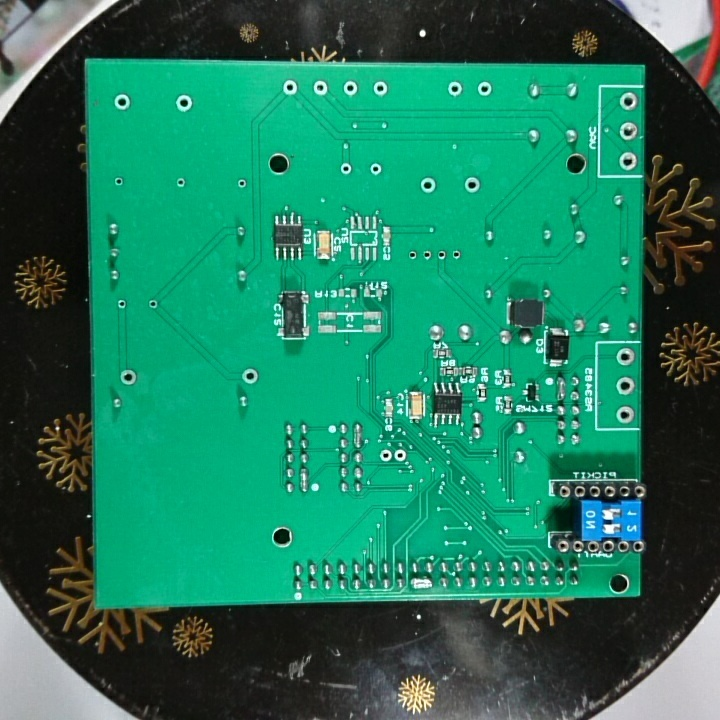F: (172, 91, 195, 115), (614, 346, 637, 369), (614, 375, 637, 398), (617, 91, 639, 115), (614, 404, 637, 426), (117, 366, 140, 388), (111, 92, 134, 114), (461, 174, 484, 196), (618, 119, 639, 143), (239, 367, 262, 388), (368, 79, 392, 99), (417, 176, 439, 197), (474, 80, 495, 100), (618, 149, 637, 171), (311, 78, 331, 98), (279, 78, 300, 97), (335, 160, 357, 178), (366, 159, 385, 179), (340, 79, 359, 99), (445, 80, 464, 100), (392, 446, 409, 466), (448, 245, 462, 266), (420, 246, 435, 265), (145, 295, 160, 313), (173, 175, 188, 192), (434, 246, 448, 264), (405, 247, 420, 263), (378, 448, 392, 465), (234, 175, 248, 192), (114, 297, 129, 312), (111, 175, 127, 189)
P: (296, 466, 311, 495), (409, 575, 433, 592), (554, 375, 568, 403), (351, 421, 363, 450)
